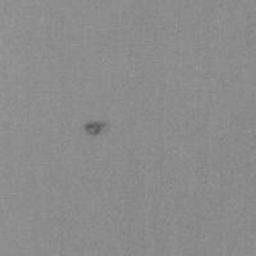Inclusion: (84, 122, 109, 136)
